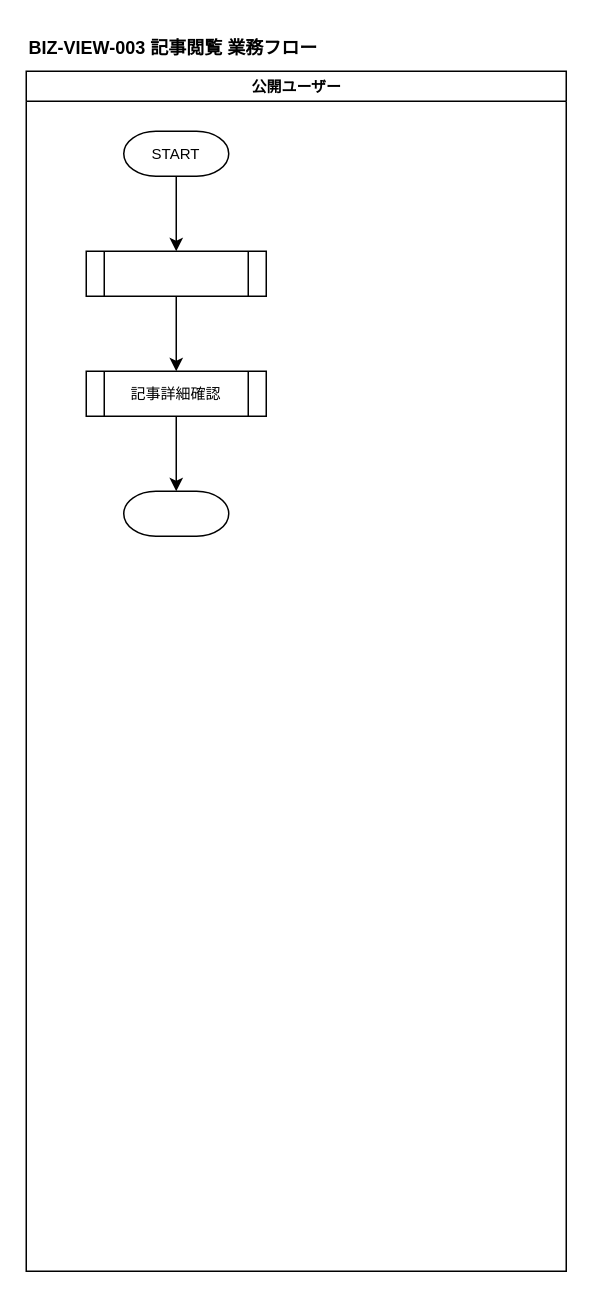
This 593x1298 diagram has some shape labels left out. The centre of each missing label's shape, as x and y in pixels:
"END" goes at (x=175, y=513).
"記事選択" goes at (x=175, y=273).
